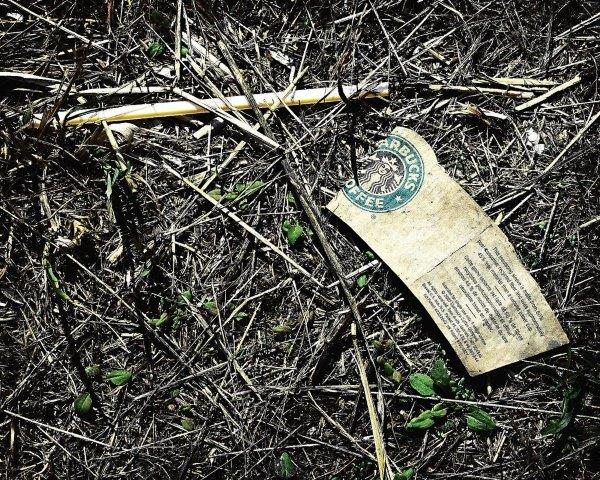sedotan: (25, 81, 387, 127)
